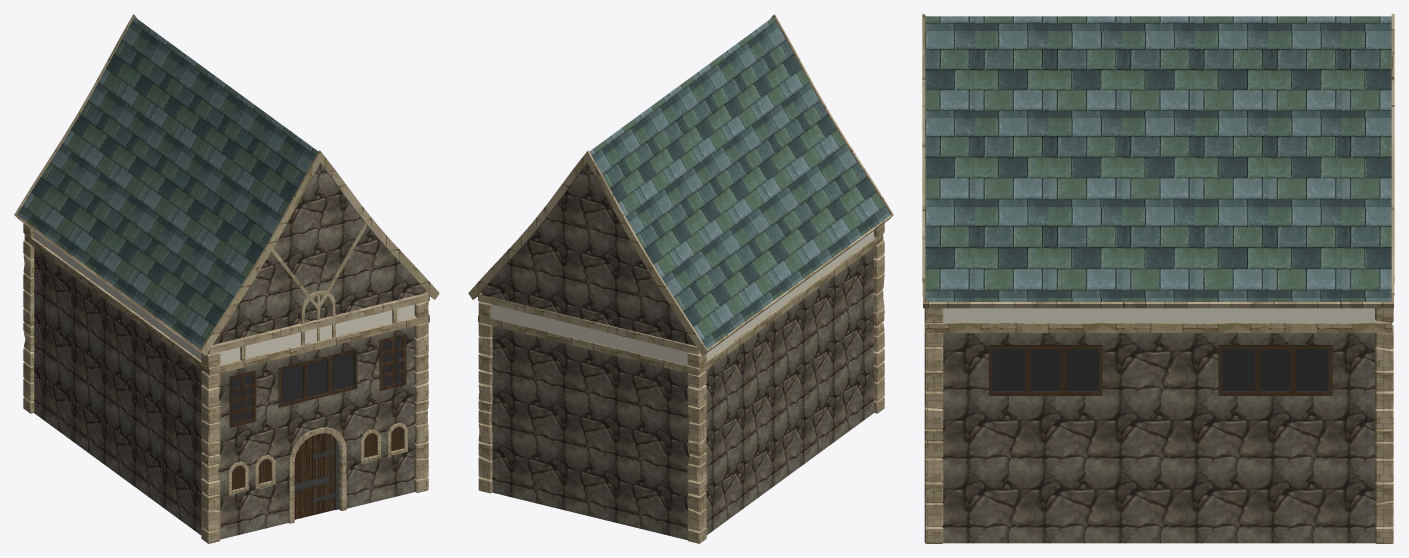
File: House 1.fbx
The picture shows the model from 3 angles, left to right: view 1: azimuth 30°, elevation 25°; view 2: azimuth 150°, elevation 25°; view 3: azimuth 270°, elevation 25°; orthographic projection. The views are drawn at different scales.
Visible parts, largest first — view 1: House 1, House 1.007, House 1.004, Cube.006, House 1.016, House 1.006, House 1.014; view 2: House 1, House 1.007, House 1.004, Cube.006; view 3: House 1.007, House 1, House 1.004, Cube.006, House 1.017, House 1.018.
Part boxes in pixels (x1,y1,x2,y2): House 1: (33,163,425,539); House 1.007: (17,17,432,349); House 1.004: (14,14,439,375); Cube.006: (23,223,428,543); House 1.016: (229,333,406,427); House 1.006: (294,433,338,519); House 1.014: (232,426,403,490); House 1: (481,163,874,540); House 1.007: (475,17,890,349); House 1.004: (468,14,893,375); Cube.006: (478,223,884,543); House 1.007: (925,16,1391,301); House 1: (933,308,1389,543); House 1.004: (922,14,1394,332); Cube.006: (924,308,1393,543); House 1.017: (988,345,1102,395); House 1.018: (1218,345,1332,395).
Bounding box in the file's own units: 1172 × 1724 × 1591.
